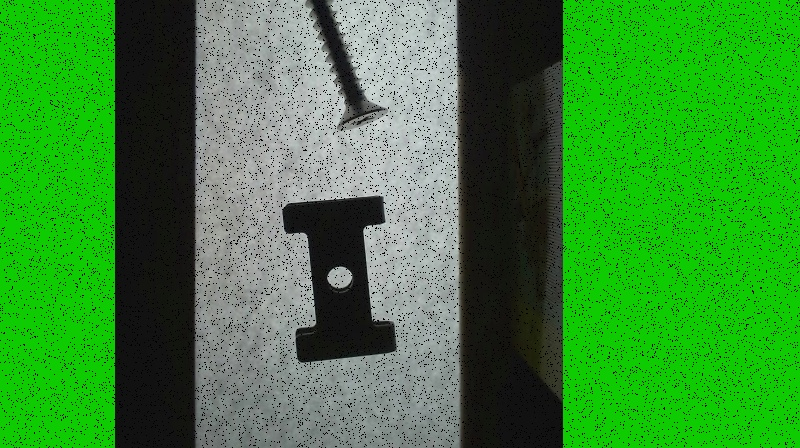O002: (280, 189, 400, 369)
S001: (300, 0, 391, 136)
